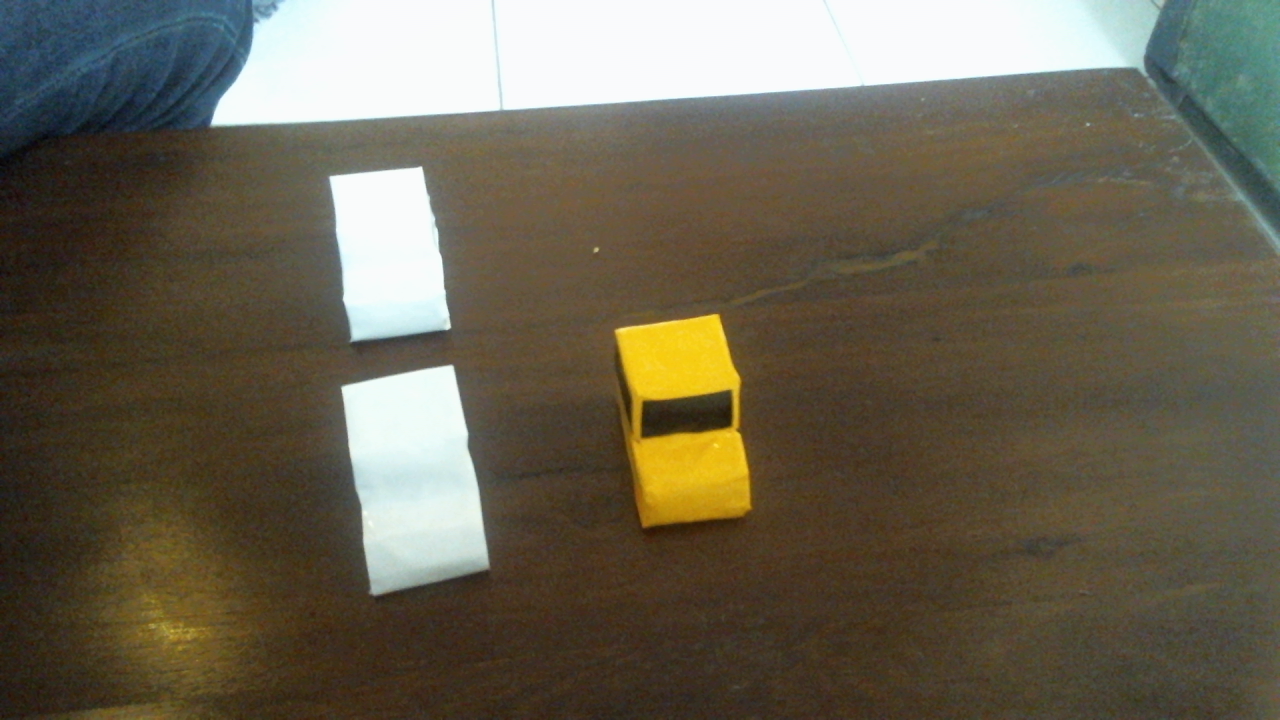Kijang Kapsul: (578, 287, 796, 546)
